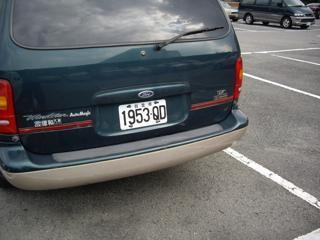plate: (118, 101, 169, 130)
